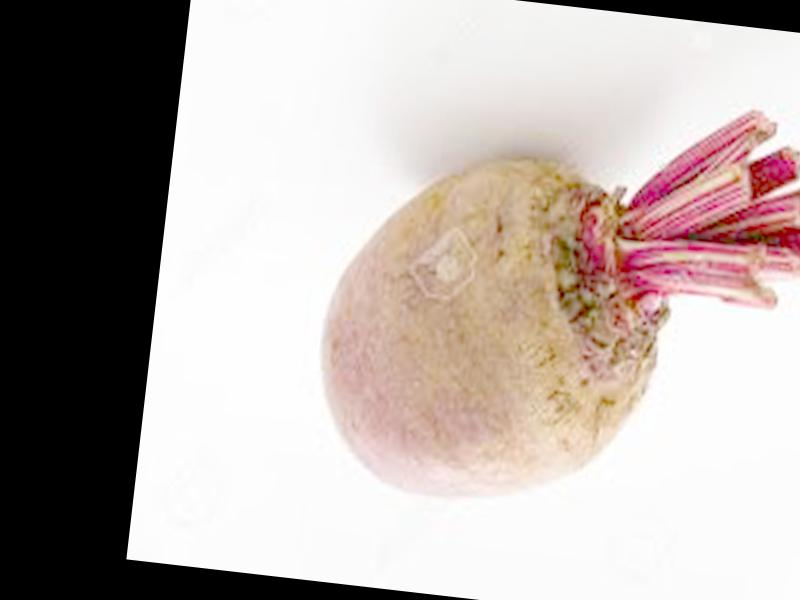Beet: (303, 60, 800, 538)
